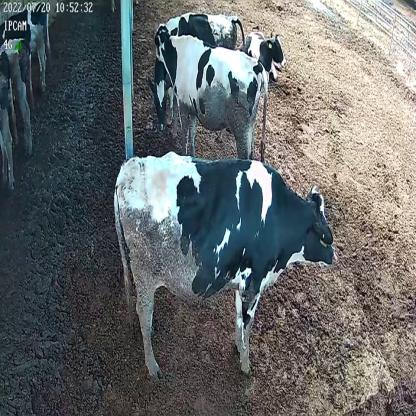cow: (112, 152, 334, 375), (153, 22, 269, 162), (151, 7, 247, 129), (242, 14, 288, 86)
